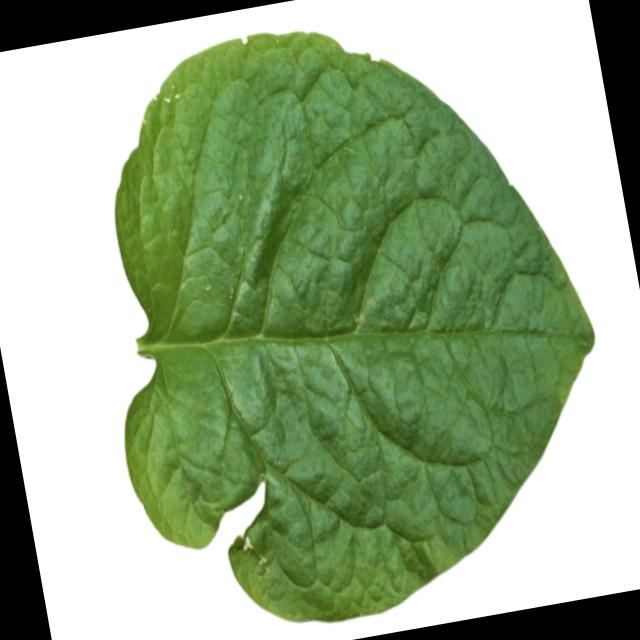Medicinal-Basale: (56, 0, 636, 640)
